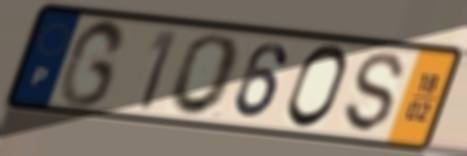1: (139, 28, 182, 113)
6: (233, 41, 288, 121)
G: (56, 16, 130, 110)
O: (165, 32, 245, 118), (282, 42, 351, 132)
S: (342, 50, 407, 136)
